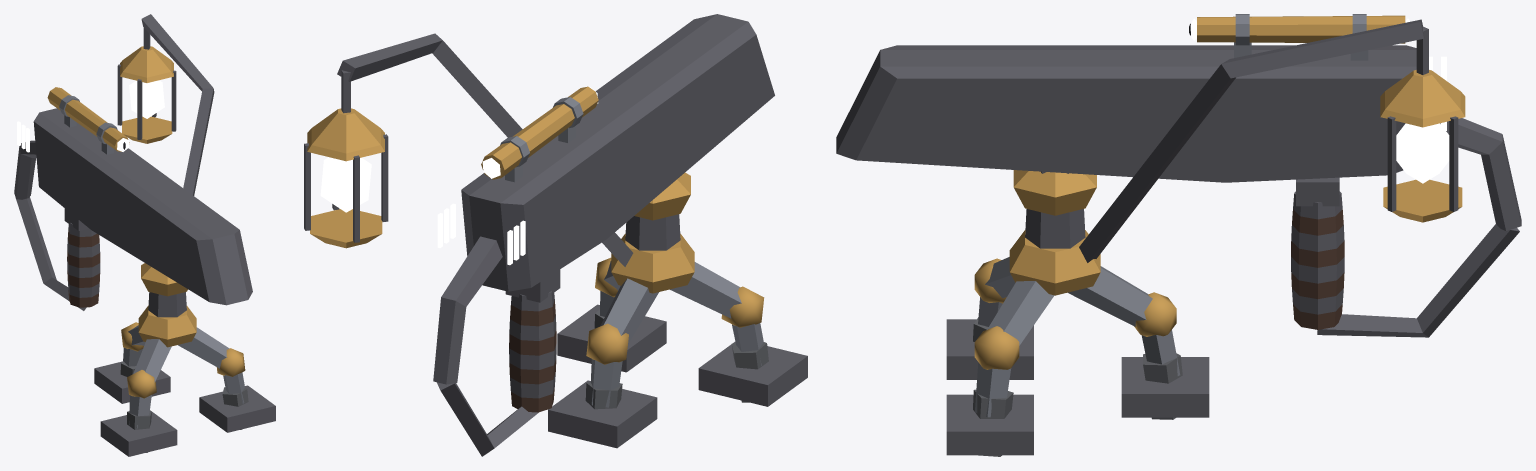
File: gun-post-gun.glb
3 renders of one model, left to right at view 1: azimuth 30°, elevation 25°; view 2: azimuth 150°, elevation 25°; view 3: azimuth 270°, elevation 25°, orthographic. The views are drawn at different scales.
Visible parts, largest first — view 1: gun-post-gun, pulse_breath; view 2: gun-post-gun, pulse_breath; view 3: gun-post-gun.
Boxes of the visible parts, <box> form: gun-post-gun: <box>14,14,275,456</box>; pulse_breath: <box>17,121,29,152</box>; gun-post-gun: <box>304,14,807,456</box>; pulse_breath: <box>437,203,525,265</box>; gun-post-gun: <box>836,14,1521,456</box>.
Bounding box in the file's own units: 0.4079 × 0.5912 × 0.7827.
